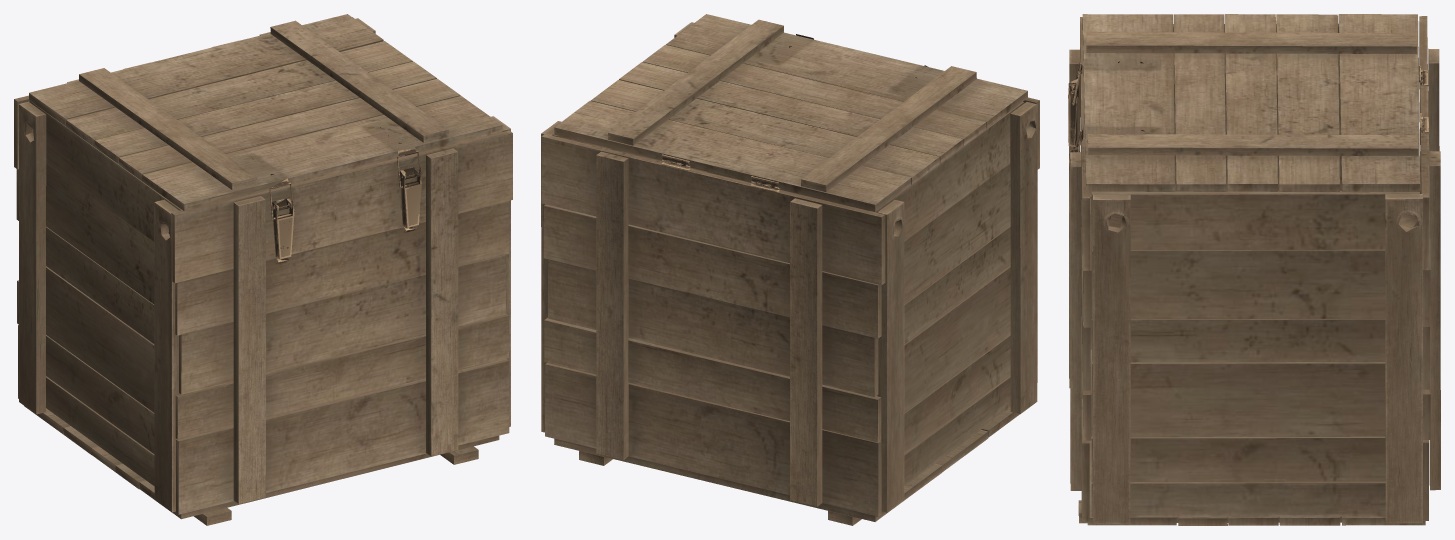
The model's file is Wood_Box_Set1.fbx.
The picture shows the model from 3 angles, left to right: view 1: azimuth 30°, elevation 25°; view 2: azimuth 150°, elevation 25°; view 3: azimuth 270°, elevation 25°; orthographic projection. The views are drawn at different scales.
Parts seen in each view (by area): view 1: Wood_Box; view 2: Wood_Box; view 3: Wood_Box.
Boxes of the visible parts, x1,y1,x2,y2 form: Wood_Box: (14,14,512,525); Wood_Box: (541,14,1039,525); Wood_Box: (1068,14,1440,525).
Size of the model in its own units: 83.91 by 77.49 by 72.3.
3 materials, 3 textured.
